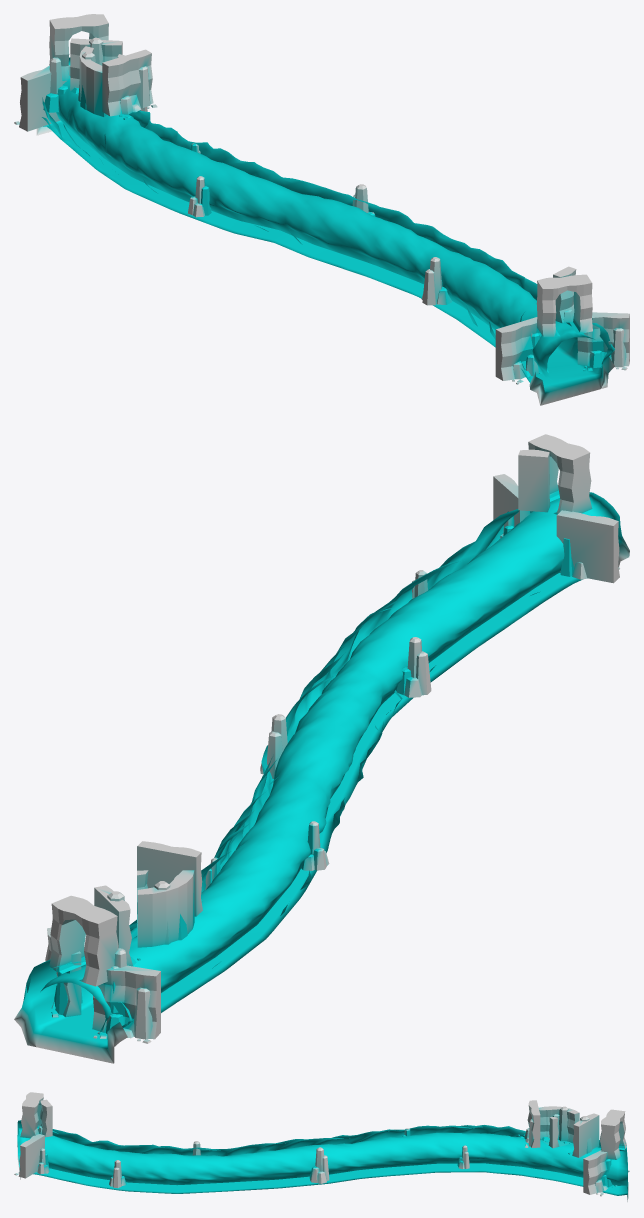
Rendered from cave-headland.glb.
3 views of the same model, one above another, from view 1: azimuth 30°, elevation 25°; view 2: azimuth 150°, elevation 25°; view 3: azimuth 270°, elevation 25° (orthographic). The views are drawn at different scales.
Parts seen in each view (by area): view 1: shell, dressing; view 2: shell, dressing; view 3: shell, dressing.
Boxes of the visible parts, left/top/right/bottom form: shell: left=36, top=57, right=614, bottom=405; dressing: left=14, top=14, right=629, bottom=384; shell: left=14, top=492, right=629, bottom=1063; dressing: left=45, top=434, right=619, bottom=1043; shell: left=17, top=1120, right=628, bottom=1201; dressing: left=14, top=1092, right=629, bottom=1196.
Bounding box in the file's own units: 39.7 × 36.13 × 188.
